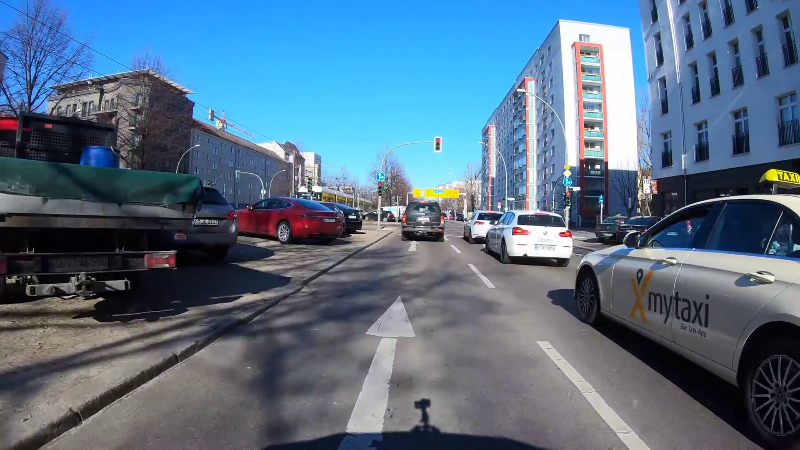Plate: (48, 253, 110, 272), (192, 217, 220, 227), (534, 241, 557, 251), (321, 216, 337, 224), (417, 216, 429, 222), (347, 214, 357, 218)
